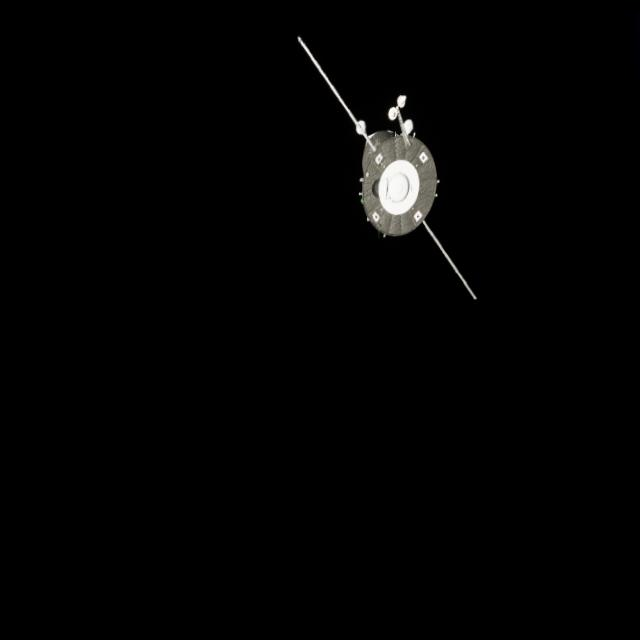Satellites revolving around earth: (356, 127, 441, 240)
